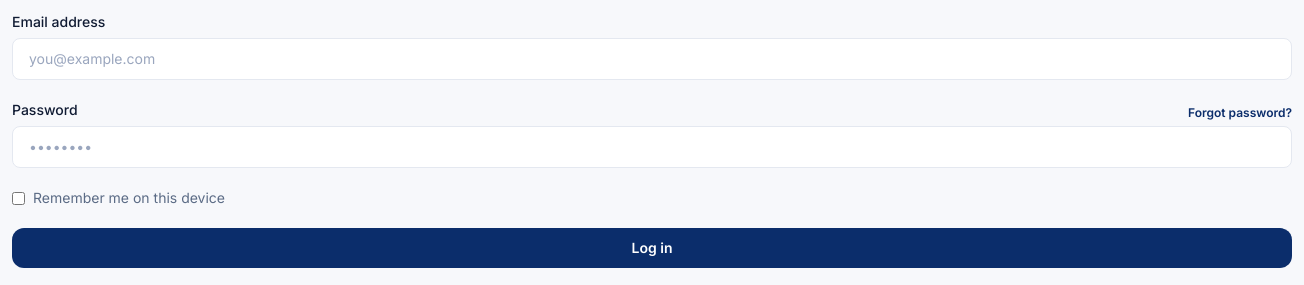
LoginForm › disables the submit button while loading
Type "a@example.com" into the field labelled "Email address" at (652, 59), box 12,38 -> 1292,80
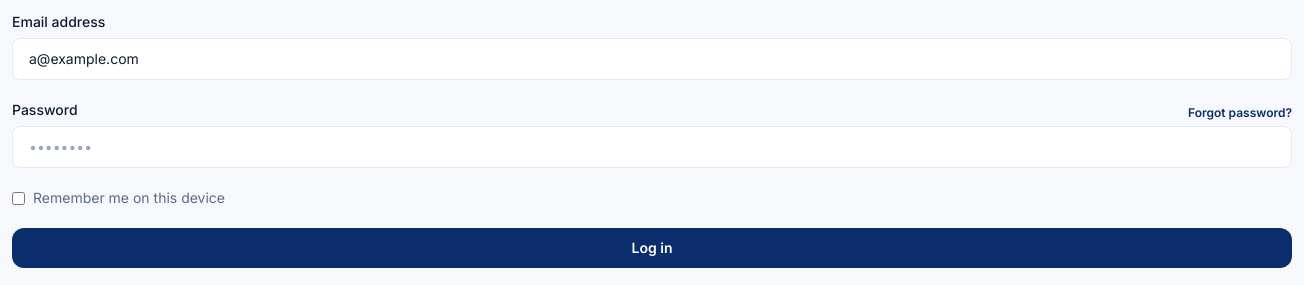
Type "secret123" into the password field labelled "Password" at (652, 147), box 12,126 -> 1292,168
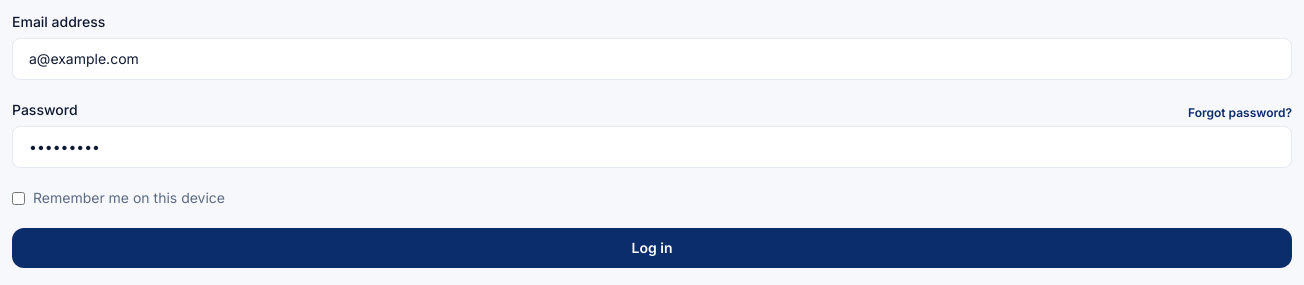
Click the button "Log in" at (652, 248), box 12,228 -> 1292,268
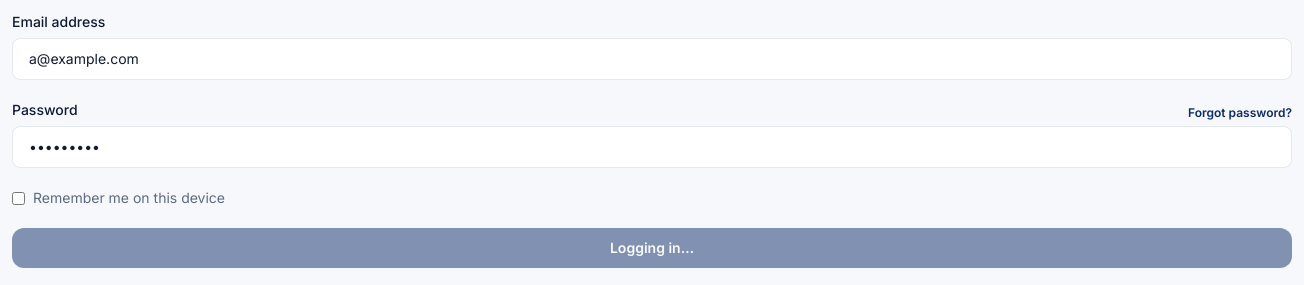
Check: the button named "log in" is disabled, box 12,228 -> 1292,268
